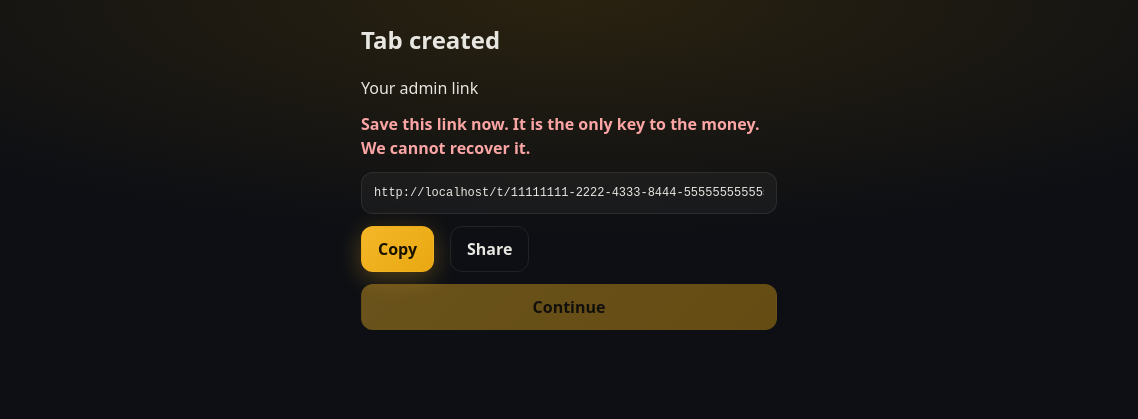
Links › a non-abort share failure is handled like a copy failure; AbortError is silent
Click the button with aria-label "Share admin link". click: x=490, y=249
box: [450,226,529,272]
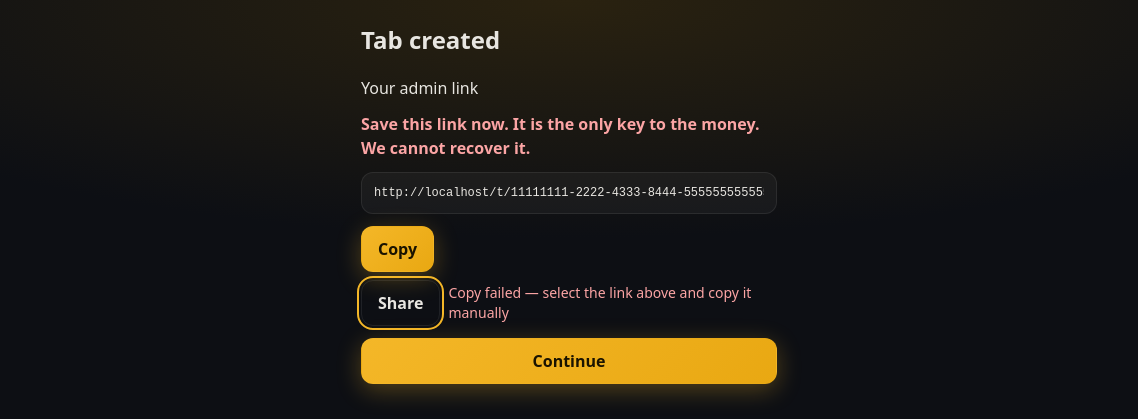
expect the text "Copy failed — select the link above and copy it manually" is shown: met, box [448,283,777,323]
expect the button "Continue" is enabled: met, box [361,338,777,384]
